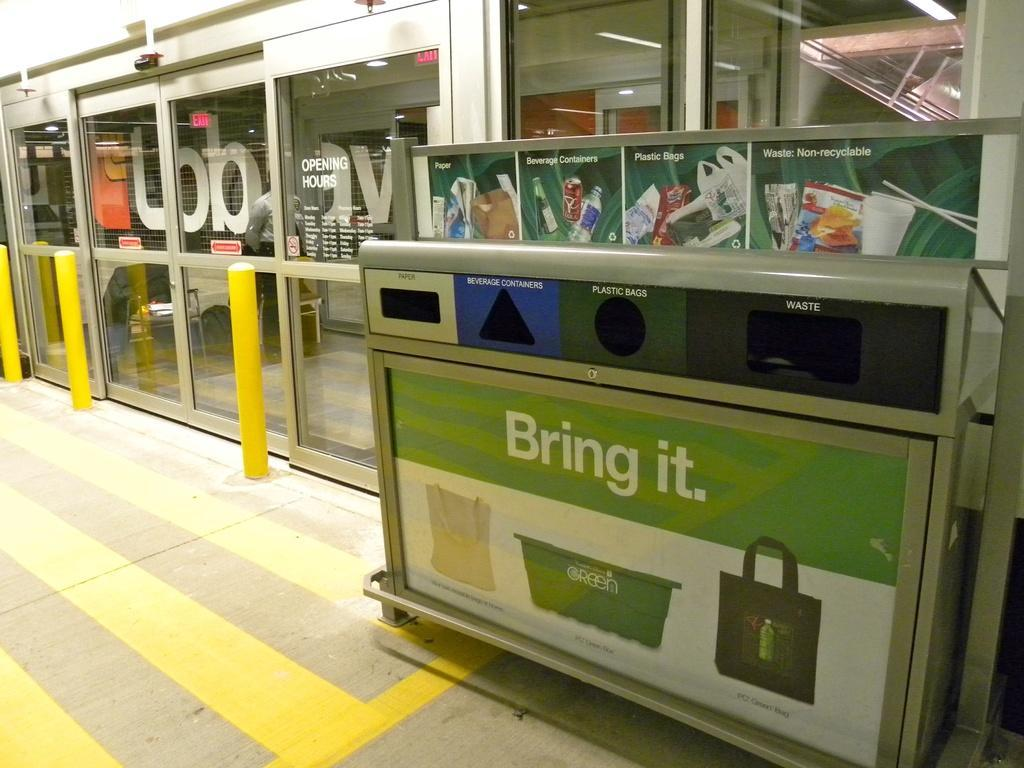door: (167, 91, 276, 416), (88, 109, 174, 387)
